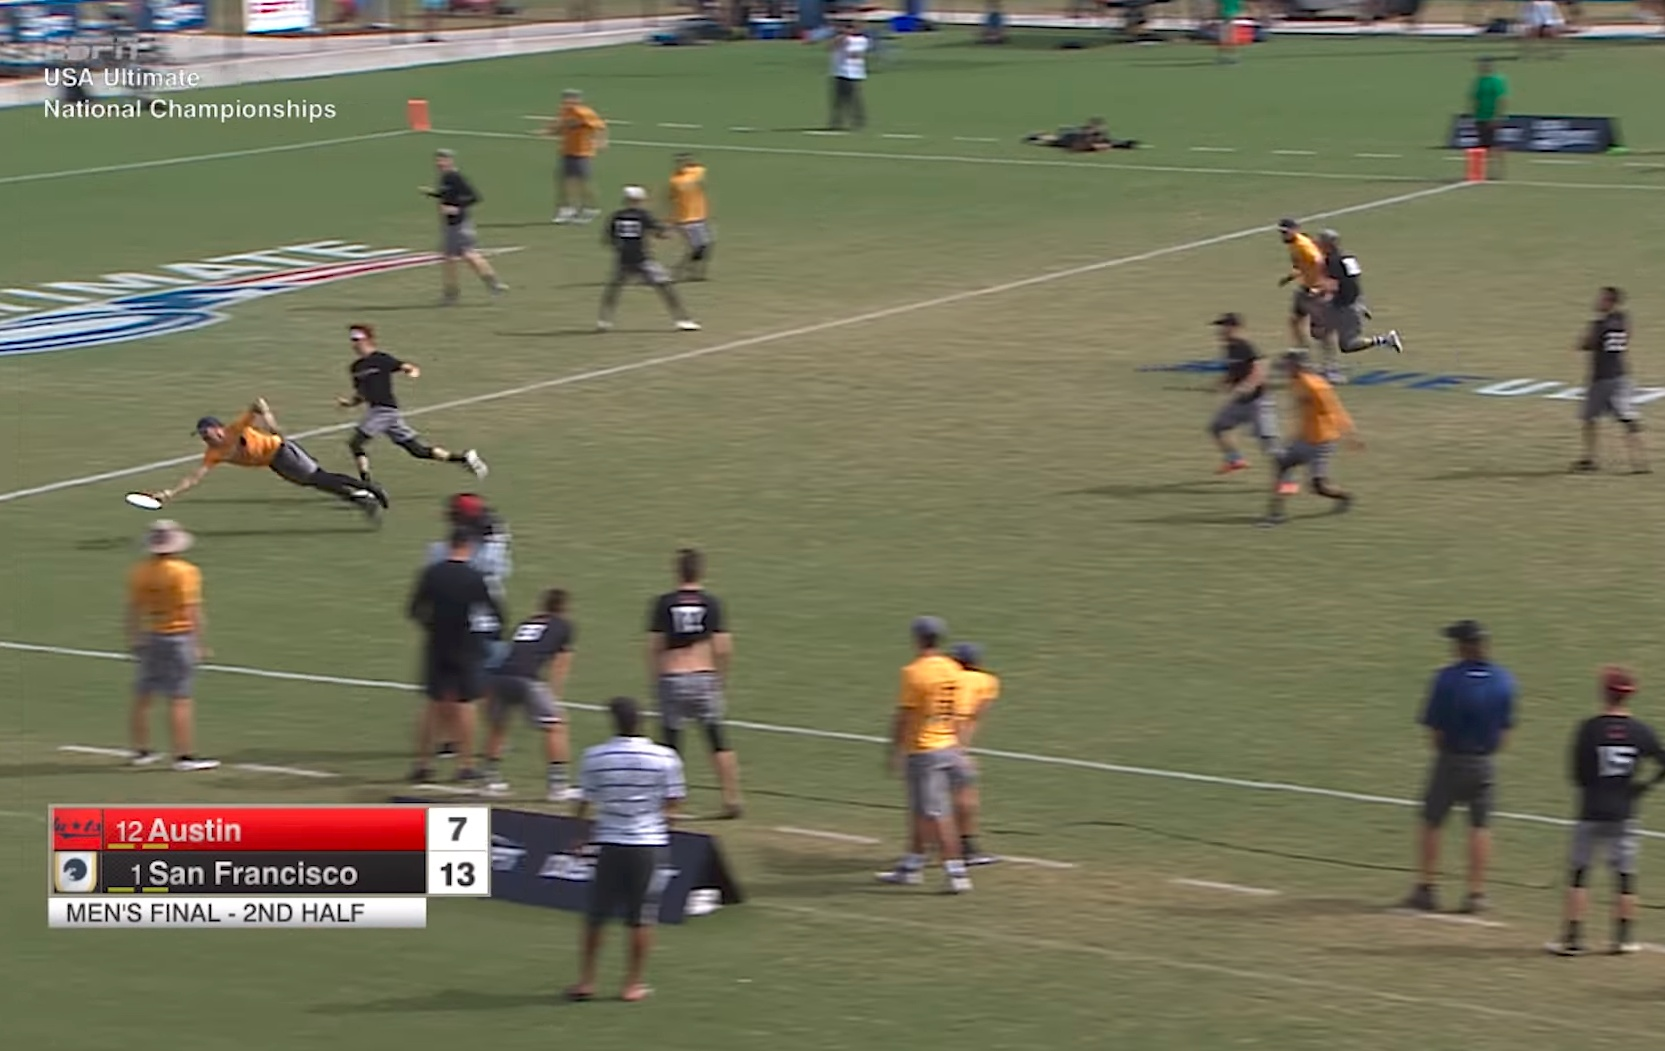frisbee: (124, 492, 163, 510)
